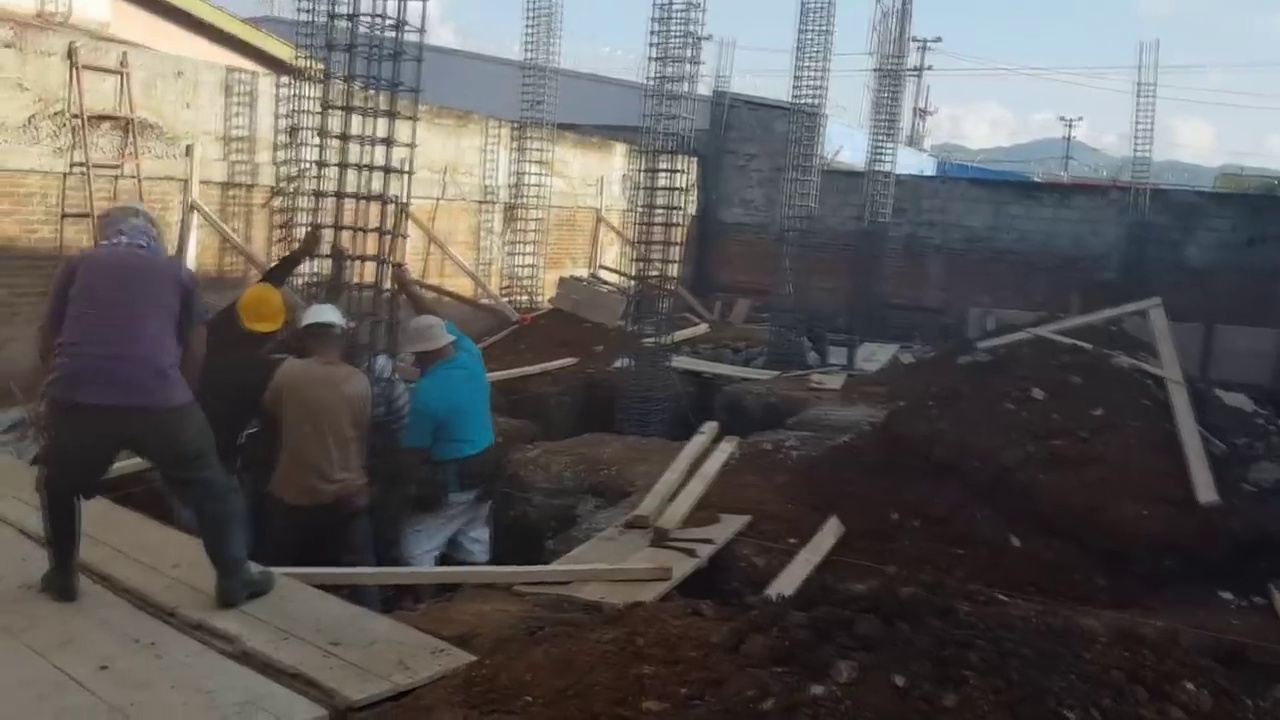helmet: (236, 282, 286, 333), (95, 198, 157, 223), (299, 302, 348, 331)
helmet-off: (404, 315, 458, 376)
helmet-on: (95, 196, 166, 250), (293, 303, 352, 358), (236, 283, 288, 345)
person: (31, 194, 275, 606), (273, 303, 373, 564), (402, 318, 501, 574), (197, 283, 292, 478)
